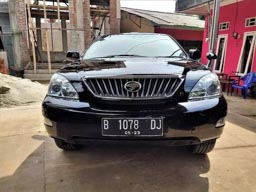plat: (101, 118, 164, 131)
